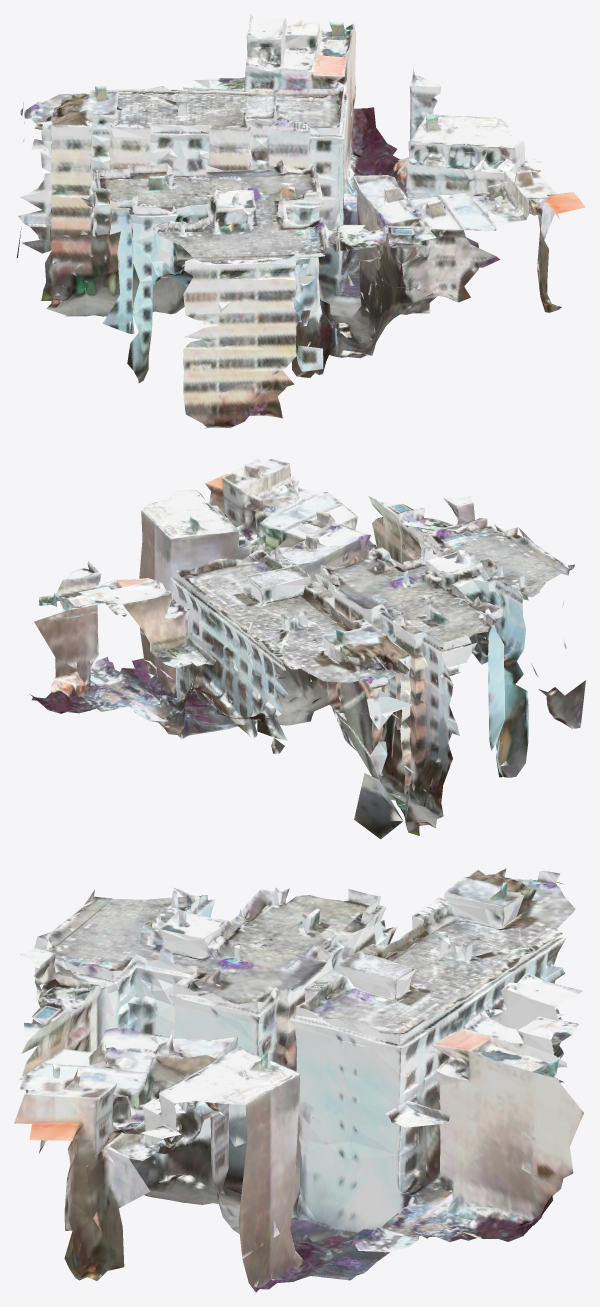
Rendered from Tile_+012_+019_L19_000001.glb.
The picture shows the model from 3 angles, top to bottom: view 1: azimuth 30°, elevation 25°; view 2: azimuth 150°, elevation 25°; view 3: azimuth 270°, elevation 25°; orthographic projection. The views are drawn at different scales.
Parts seen in each view (by area): view 1: rtc; view 2: rtc; view 3: rtc.
Part boxes in pixels (bbox=[...]): rtc: bbox=[17, 14, 585, 428]; rtc: bbox=[30, 457, 585, 839]; rtc: bbox=[14, 868, 583, 1292].
Size of the model in its own units: 58.08 by 29.13 by 56.54.
1 material, 1 textured.
